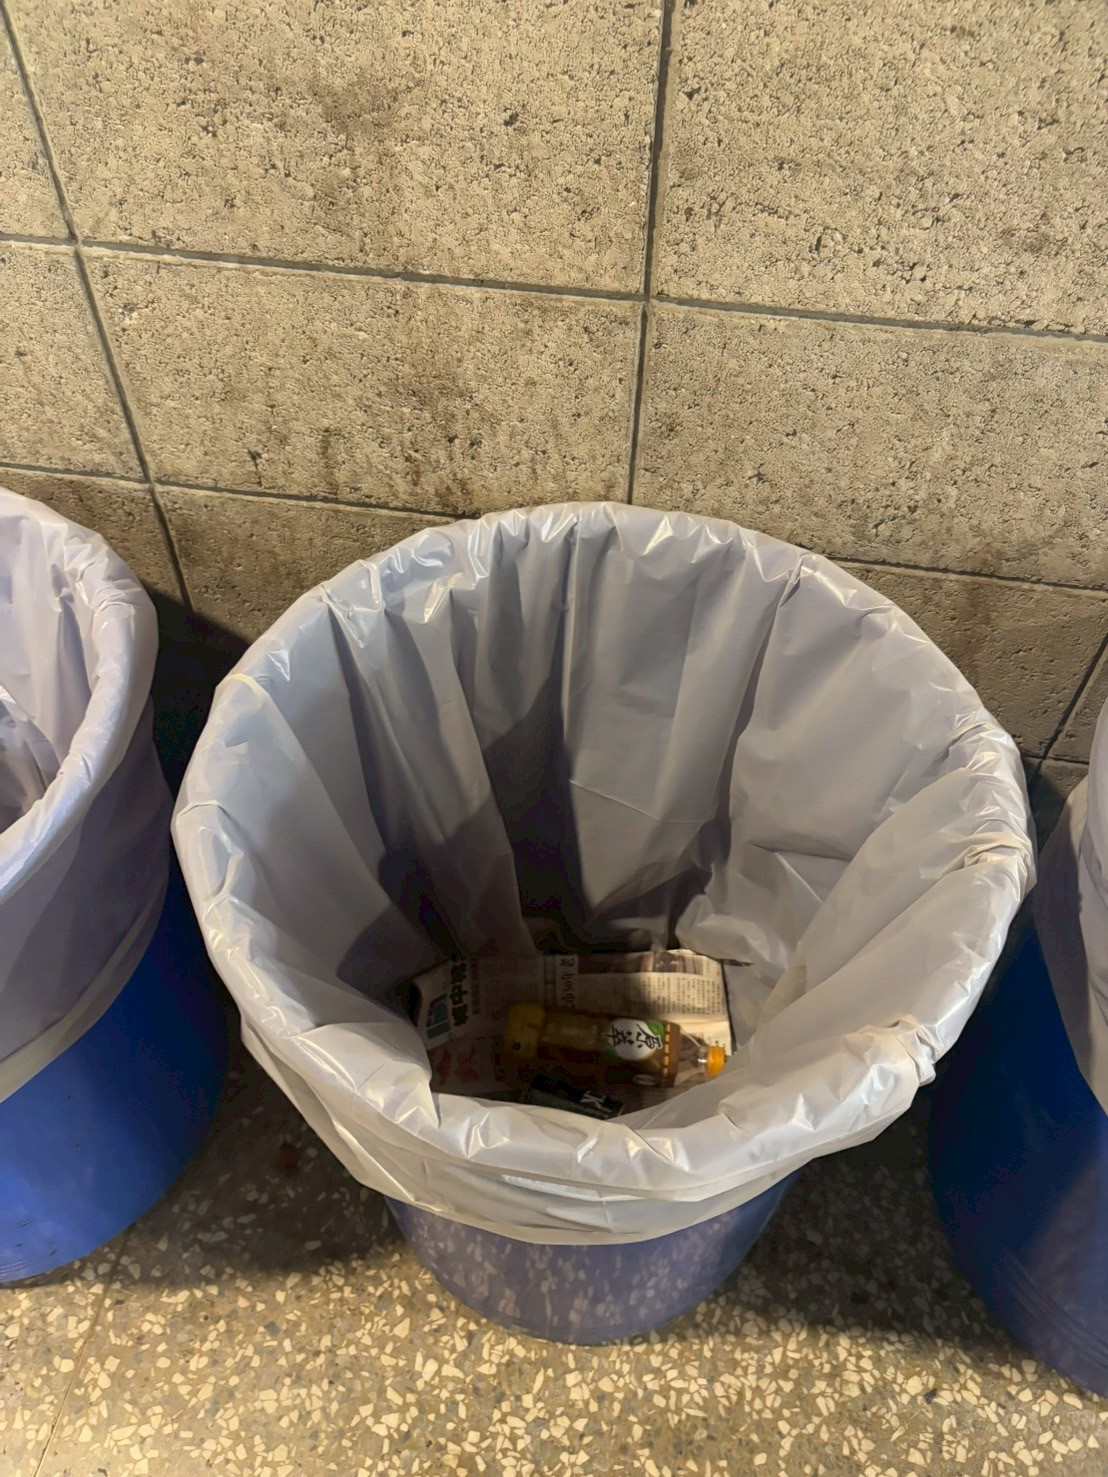normal_bin: (138, 470, 1061, 1396)
